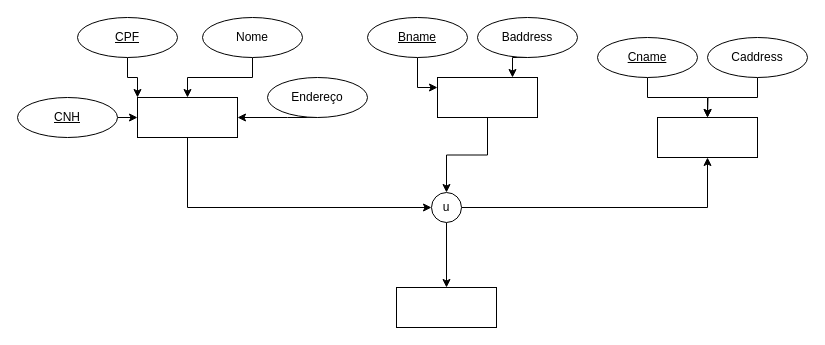
Some shapes in this 825 by 345 pixel diagram are drawn without their labels. Here are the shapes that lost their labels. From the top down, the centre of each, then its label:
the point at 187,117: Pessoa
the point at 487,97: Banco
the point at 707,137: Company
the point at 446,307: Owner
